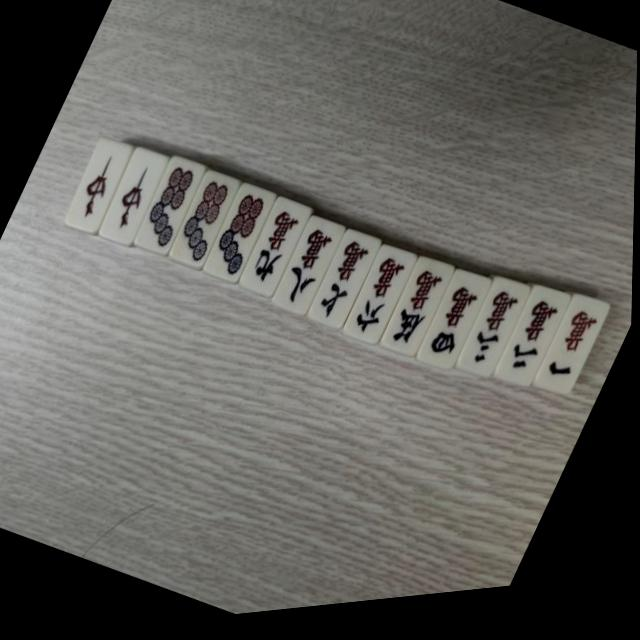hdr: (99, 150, 169, 249), (65, 144, 129, 232)
sc1: (540, 309, 608, 404)
sc2: (498, 299, 567, 396)
sc3: (460, 289, 528, 387)
sc4: (419, 277, 491, 379)
sc5: (384, 266, 452, 362)
sc6: (344, 253, 414, 352)
sc7: (309, 237, 379, 336)
sc8: (273, 224, 343, 322)
sc9: (241, 205, 309, 302)
sd7: (135, 159, 205, 261), (171, 172, 240, 272), (206, 189, 275, 288)
